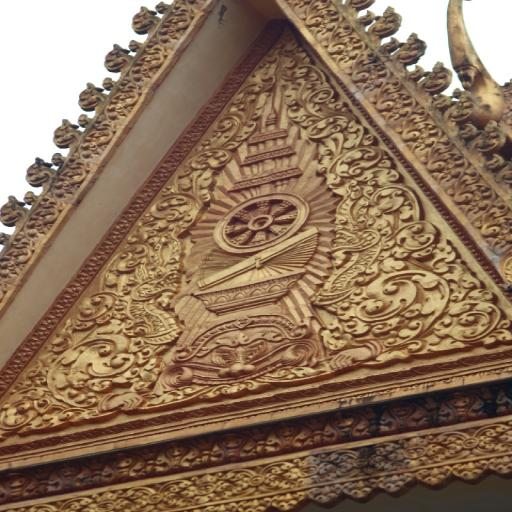la: (340, 280, 495, 346), (35, 340, 148, 406), (371, 182, 435, 248), (205, 81, 267, 147), (287, 62, 333, 124), (330, 146, 400, 186), (168, 151, 236, 190), (133, 196, 191, 234), (66, 292, 123, 330), (418, 246, 473, 282), (101, 242, 149, 283)
lua: (395, 34, 431, 64), (474, 124, 508, 152), (102, 42, 132, 70), (51, 116, 79, 146), (24, 156, 56, 182), (374, 8, 403, 35), (1, 194, 27, 224), (425, 62, 452, 89), (132, 5, 158, 33), (78, 80, 103, 108), (447, 97, 473, 122)
ran: (315, 225, 383, 307), (128, 266, 182, 346)
